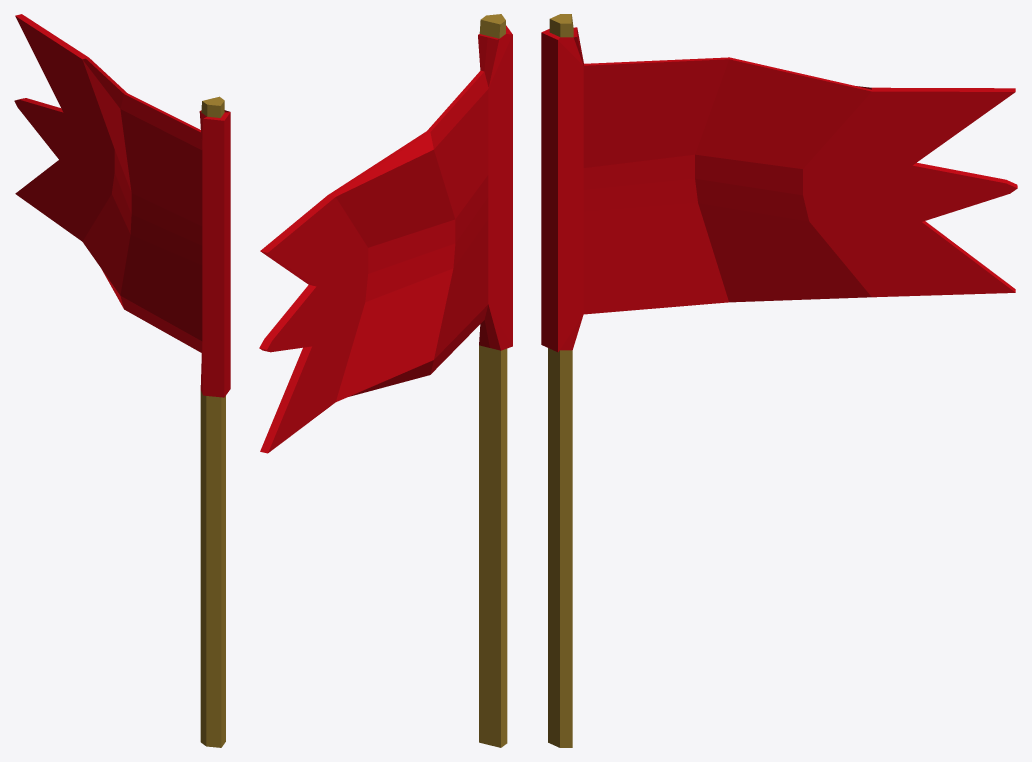
Rendered from FlagMarker.fbx.
The picture shows the model from 3 angles, left to right: view 1: azimuth 30°, elevation 25°; view 2: azimuth 150°, elevation 25°; view 3: azimuth 270°, elevation 25°; orthographic projection. The views are drawn at different scales.
Visible parts, largest first — view 1: FlagMarker; view 2: FlagMarker; view 3: FlagMarker.
Boxes of the visible parts, x1,y1,x2,y2 form: FlagMarker: [14, 14, 230, 747]; FlagMarker: [259, 14, 512, 747]; FlagMarker: [541, 14, 1017, 747].
Size of the model in its own units: 8.85 by 143 by 85.4.
